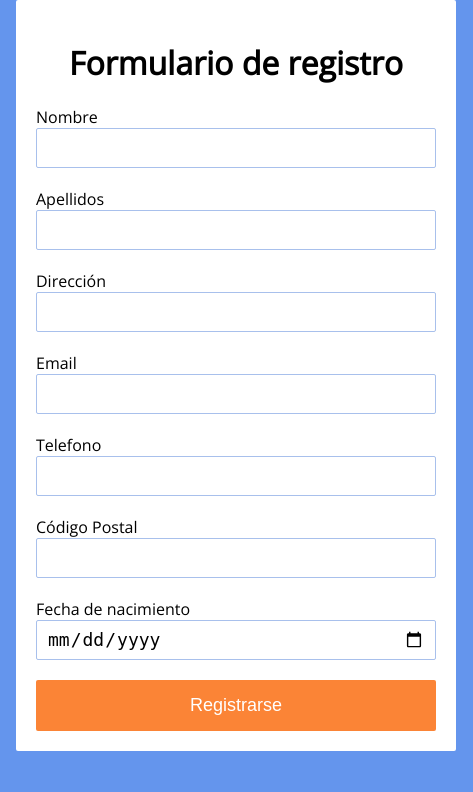
it: Register › Invalid fields
Click the button with test id "button-create" at point(236, 706), box [36, 680, 436, 731]
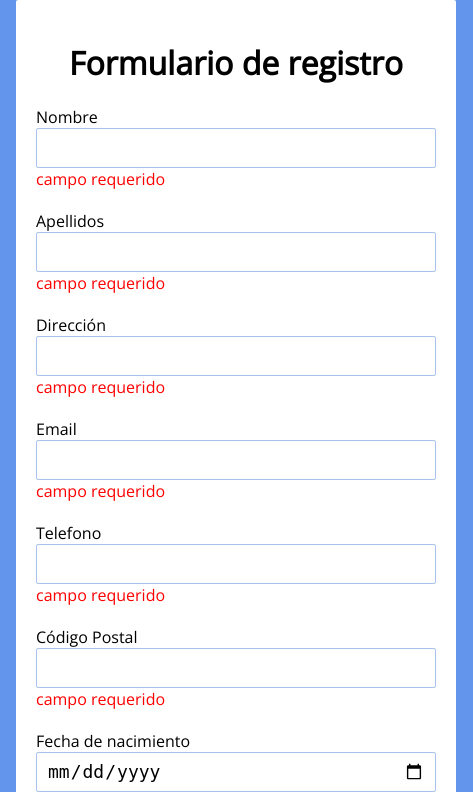
Result: the number of elements with test id "error" is 7
